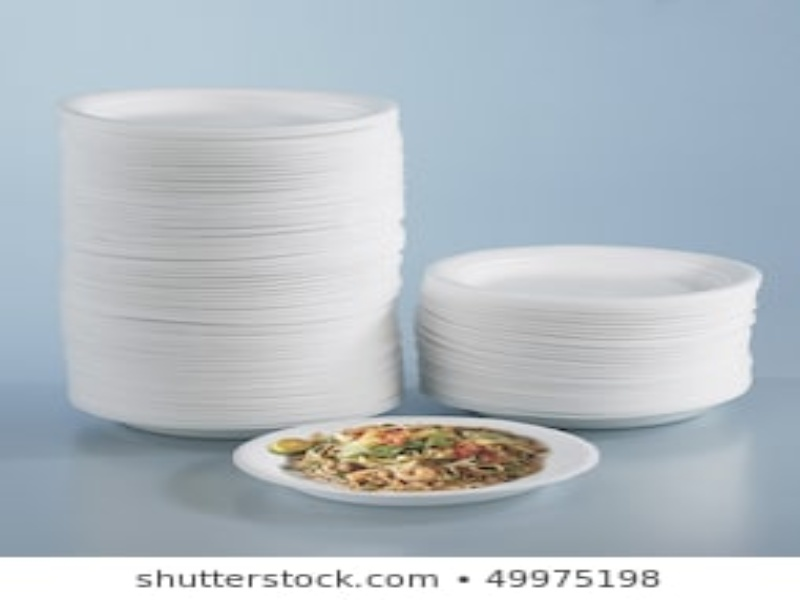plastic-plate: (51, 88, 410, 423), (417, 244, 761, 429), (230, 410, 611, 511), (410, 240, 769, 312), (53, 83, 407, 139)
